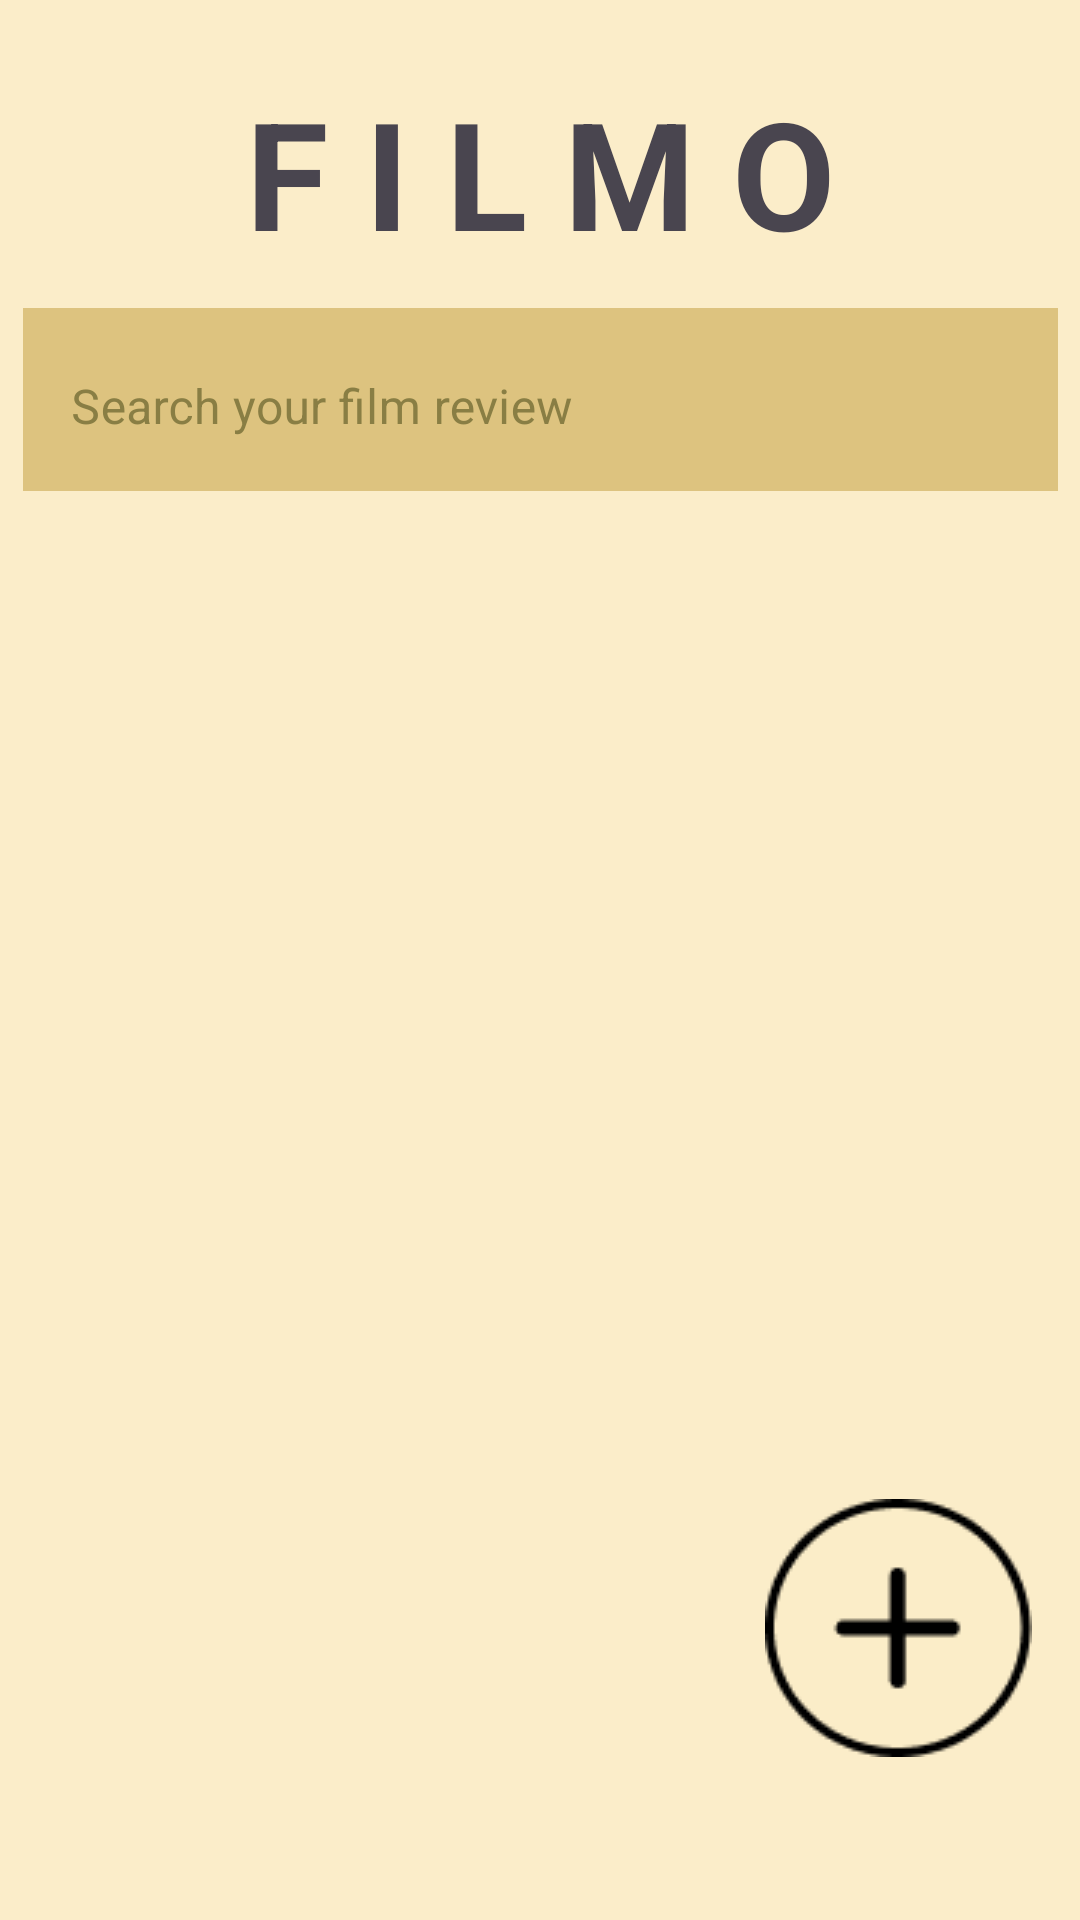

Where icons sit on this 1080×1920 app screen, as (x1, y1, x2, y2):
plus circle: (765, 1499, 1032, 1757)
